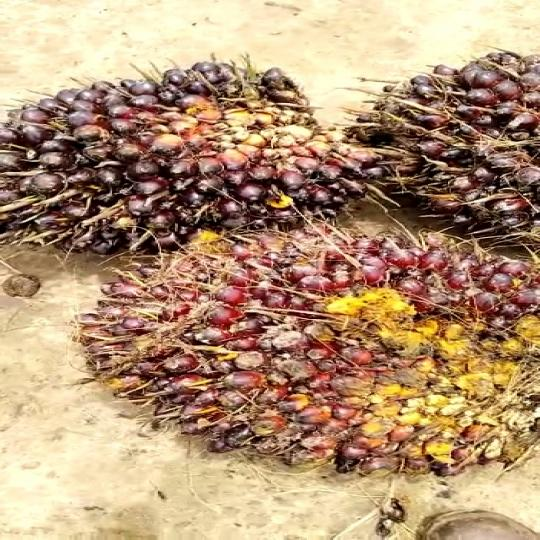kurang masak: (72, 228, 540, 468), (0, 52, 374, 249), (336, 44, 540, 254)
